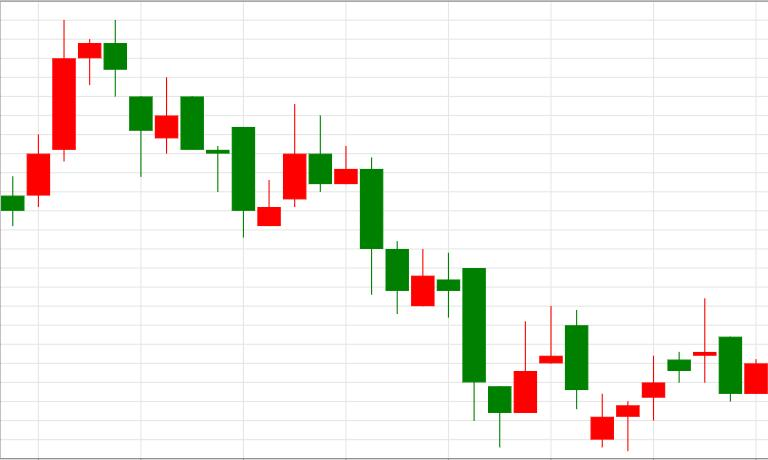hammer_rise: (309, 116, 511, 448)
